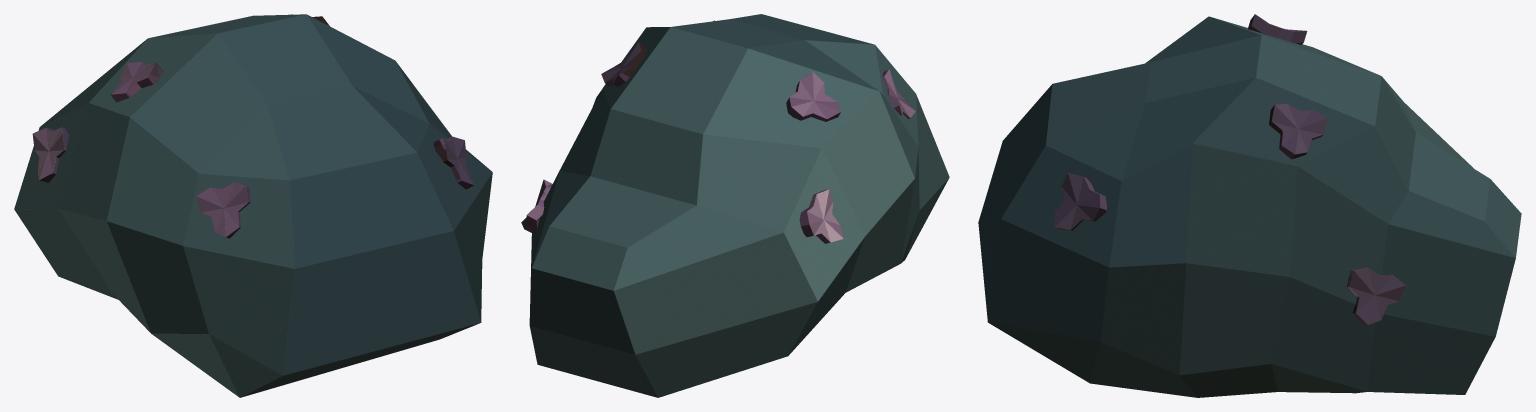
File: MediumFL.obj
3 renders of one model, left to right at view 1: azimuth 30°, elevation 25°; view 2: azimuth 150°, elevation 25°; view 3: azimuth 270°, elevation 25°, orthographic. The views are drawn at different scales.
Parts seen in each view (by area): view 1: MediumFL; view 2: MediumFL; view 3: MediumFL.
Part boxes in pixels (x1=…): MediumFL: x1=14, y1=14, x2=492, y2=397; MediumFL: x1=521, y1=14, x2=949, y2=397; MediumFL: x1=978, y1=14, x2=1521, y2=397.
Bounding box in the file's own units: 0.3356 × 0.2723 × 0.4492.
Materials: 1 (1 with a texture image).
